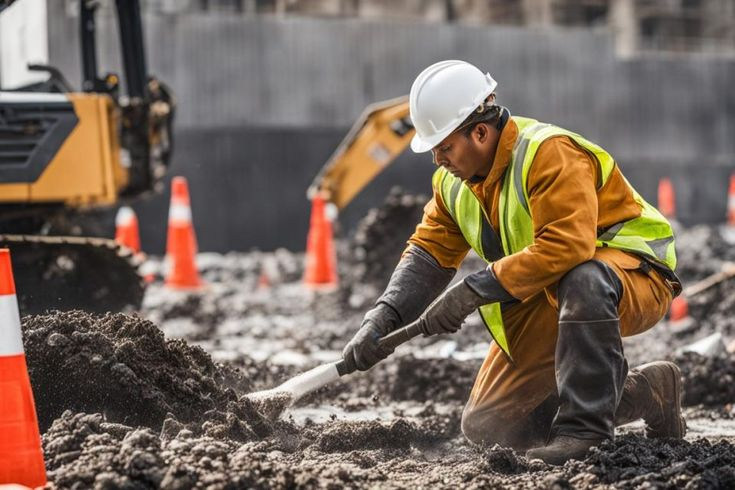hardhat: (395, 61, 503, 148)
machinery: (9, 4, 177, 332)
person: (360, 60, 702, 467)
safety_cone: (293, 185, 352, 295), (158, 168, 208, 294), (88, 192, 148, 285)
safety_vest: (417, 165, 665, 335)
